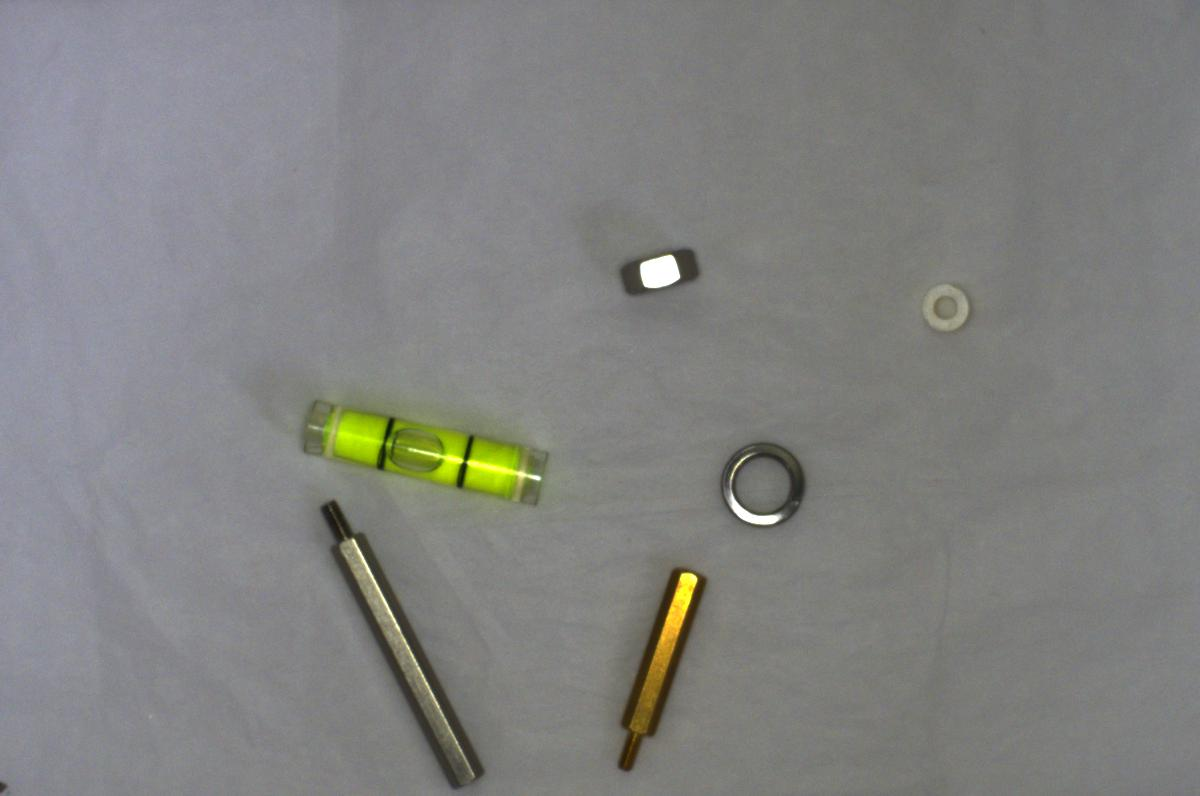Hexagon nut: (611, 235, 704, 303)
Hexagon pillar: (606, 563, 706, 773)
Hexagonal steel column: (317, 494, 500, 794)
Horizontal bubble: (291, 392, 554, 508)
Plastic cushion pillar: (911, 269, 978, 350)
Spring washer: (711, 430, 820, 536)
